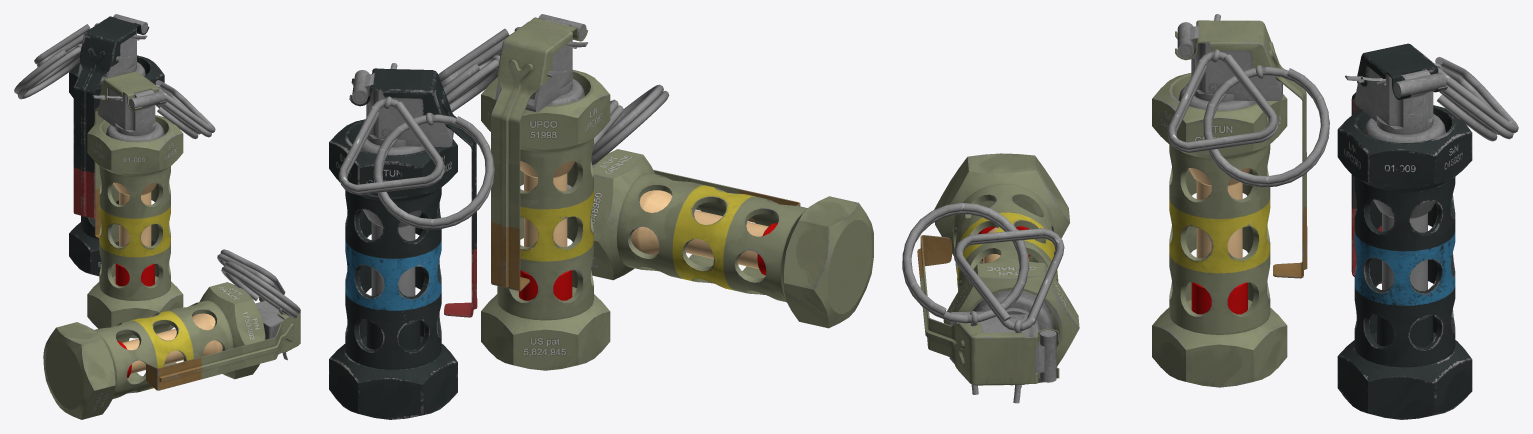
The model's file is flashbang.glb.
3 views of the same model, side by side, from view 1: azimuth 30°, elevation 25°; view 2: azimuth 150°, elevation 25°; view 3: azimuth 270°, elevation 25° (orthographic). The views are drawn at different scales.
Parts seen in each view (by area): view 1: Base_LP_lambert1_0, Base_LP_blinn1_0; view 2: Base_LP_lambert1_0, Base_LP_blinn1_0; view 3: Base_LP_lambert1_0, Base_LP_blinn1_0.
Part boxes in pixels (x1,y1,x2,y2): Base_LP_lambert1_0: (43,71,300,419); Base_LP_blinn1_0: (14,14,164,276); Base_LP_lambert1_0: (438,14,873,370); Base_LP_blinn1_0: (329,63,494,419); Base_LP_lambert1_0: (902,14,1329,403); Base_LP_blinn1_0: (1337,43,1518,419).
Bounding box in the file's own units: 0.1791 × 0.1728 × 0.2904.
2 materials, 2 textured.
